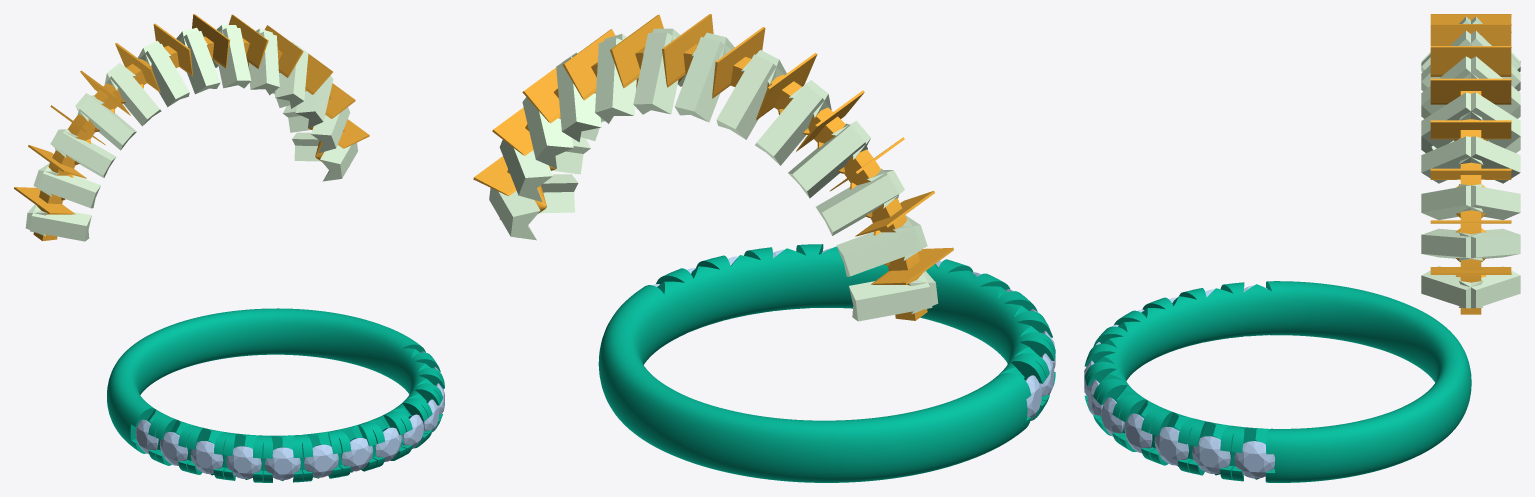
3 renders of one model, left to right at view 1: azimuth 30°, elevation 25°; view 2: azimuth 150°, elevation 25°; view 3: azimuth 270°, elevation 25°, orthographic. The views are drawn at different scales.
Parts seen in each view (by area): view 1: VR FRENCH CUT SIZE K 2.5 MM(base).3dm, Diamond_Round (×9), Micro Pave Cut Channel Cutter (×9), Channel Cutter; view 2: VR FRENCH CUT SIZE K 2.5 MM(base).3dm, Micro Pave Cut Channel Cutter (×11), Channel Cutter; view 3: VR FRENCH CUT SIZE K 2.5 MM(base).3dm, Micro Pave Cut Channel Cutter (×7), Diamond_Round (×5), Channel Cutter.
Part boxes in pixels (x1,y1,x2,y2): VR FRENCH CUT SIZE K 2.5 MM(base).3dm: [25, 24, 444, 482]; Diamond_Round (×9): [135, 414, 423, 480]; Micro Pave Cut Channel Cutter (×9): [14, 14, 369, 214]; Channel Cutter: [33, 36, 344, 241]; VR FRENCH CUT SIZE K 2.5 MM(base).3dm: [489, 28, 1055, 482]; Micro Pave Cut Channel Cutter (×11): [473, 14, 953, 284]; Channel Cutter: [499, 44, 927, 320]; VR FRENCH CUT SIZE K 2.5 MM(base).3dm: [1084, 16, 1520, 482]; Micro Pave Cut Channel Cutter (×7): [1430, 14, 1511, 274]; Diamond_Round (×5): [1101, 397, 1275, 478]; Channel Cutter: [1460, 91, 1481, 314].
Bounding box in the file's own units: 3.15 × 2.98 × 3.16.
